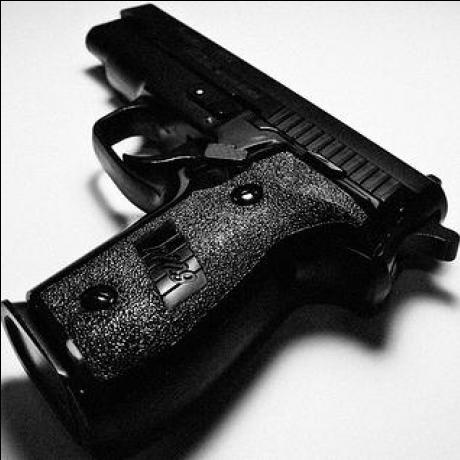weapon: (9, 5, 455, 430)
